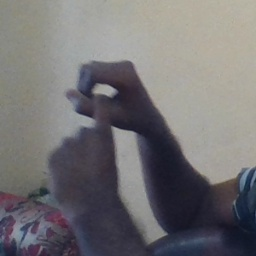Q: (43, 55, 161, 177)
